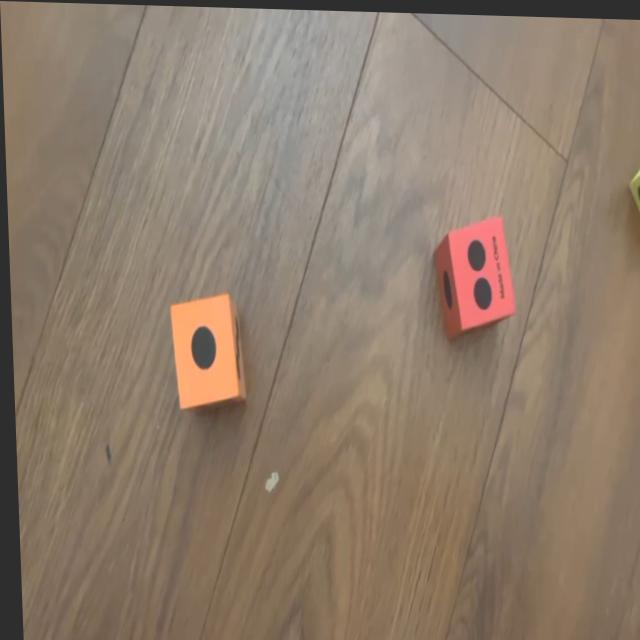cube: (430, 212, 513, 338)
